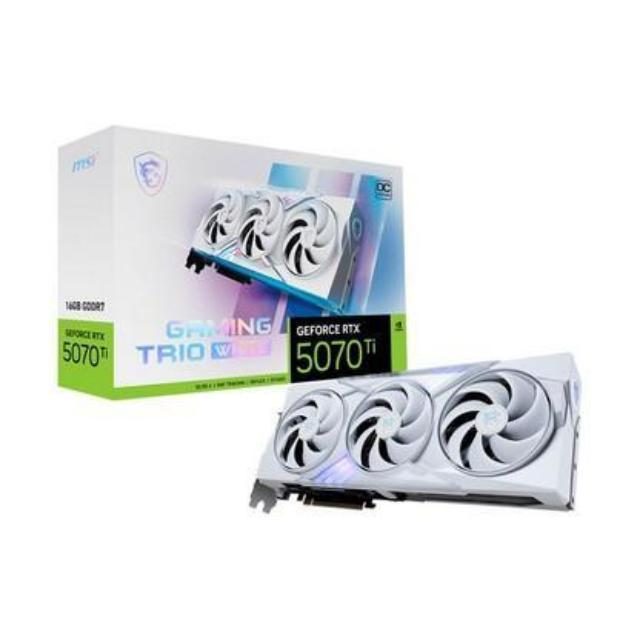GPU: (243, 356, 583, 527)
